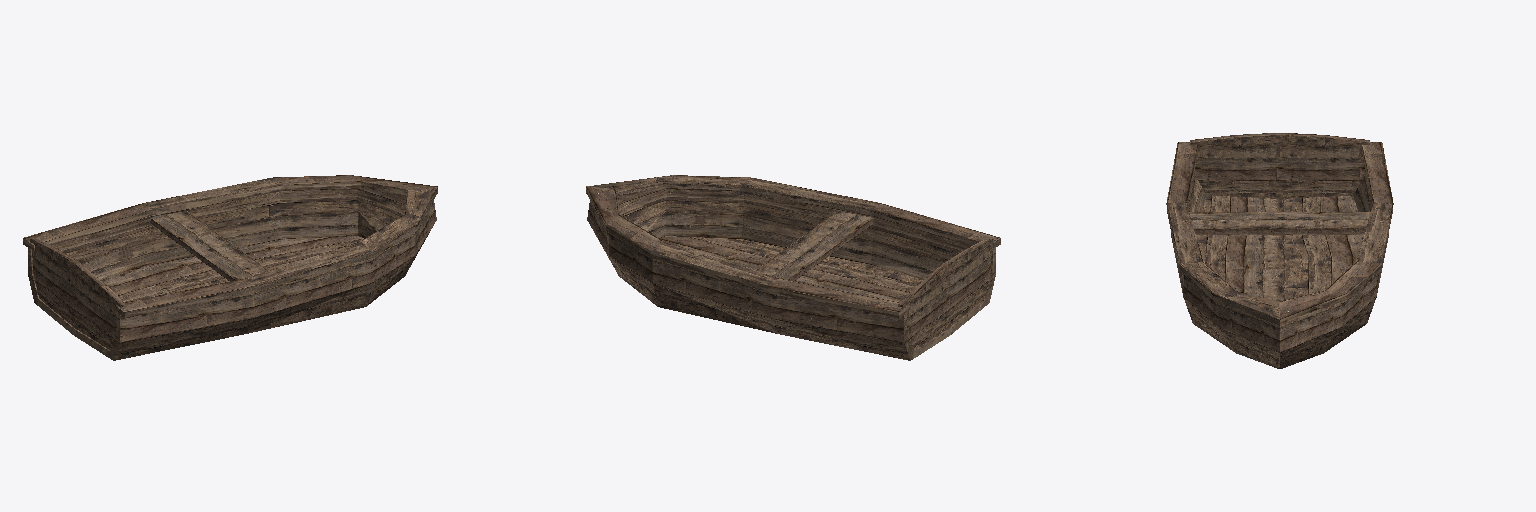
3 renders of one model, left to right at view 1: azimuth 30°, elevation 25°; view 2: azimuth 150°, elevation 25°; view 3: azimuth 270°, elevation 25°, orthographic.
Parts seen in each view (by area): view 1: Boat; view 2: Boat; view 3: Boat.
Part boxes in pixels (x1,y1,x2,y2): Boat: (23, 175, 437, 360); Boat: (586, 175, 1000, 360); Boat: (1166, 133, 1393, 368).
Bounding box in the file's own units: 8.2 × 1.52 × 4.43.
1 materials, 1 textured.